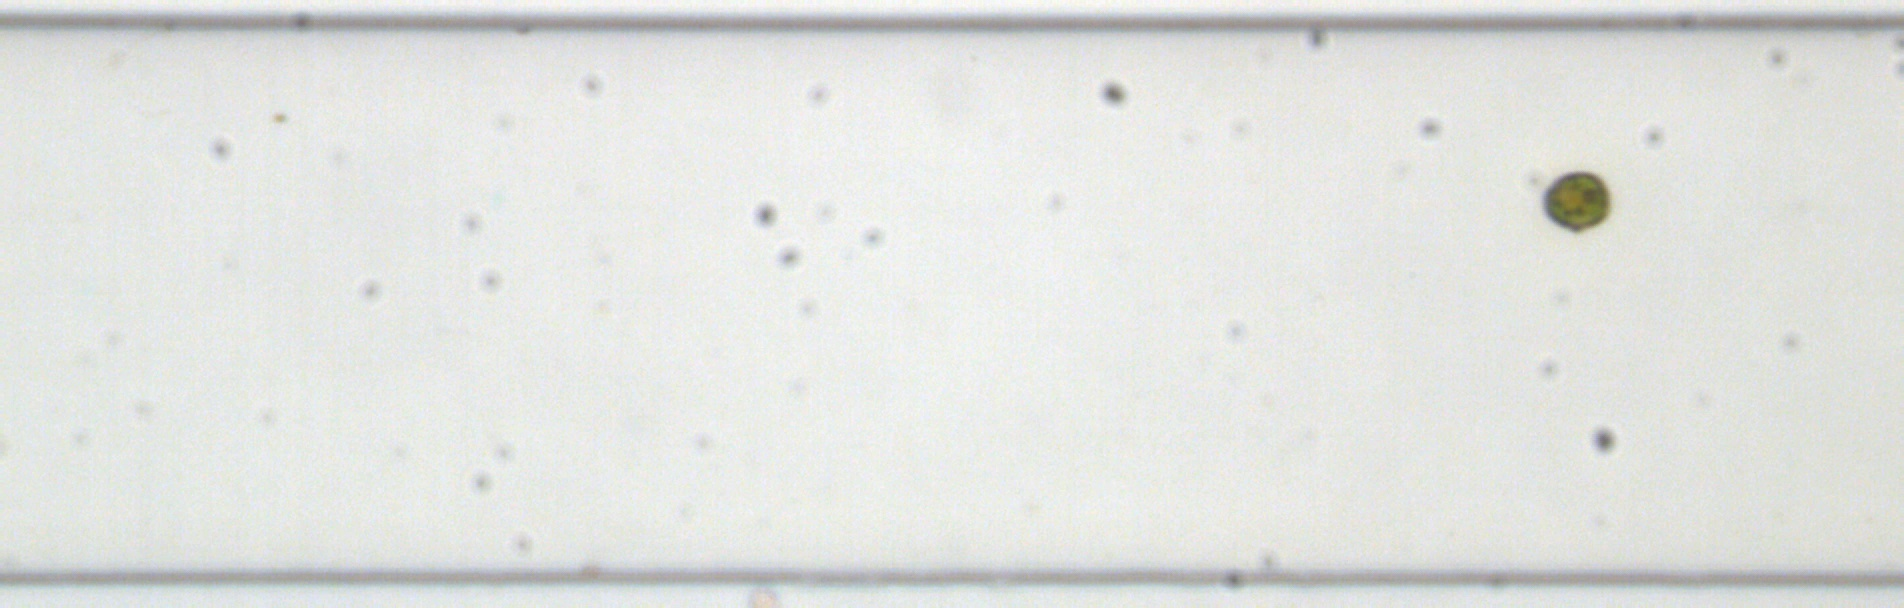Chlorella: (272, 109, 289, 127)
Haematococcus: (1537, 167, 1614, 234)
